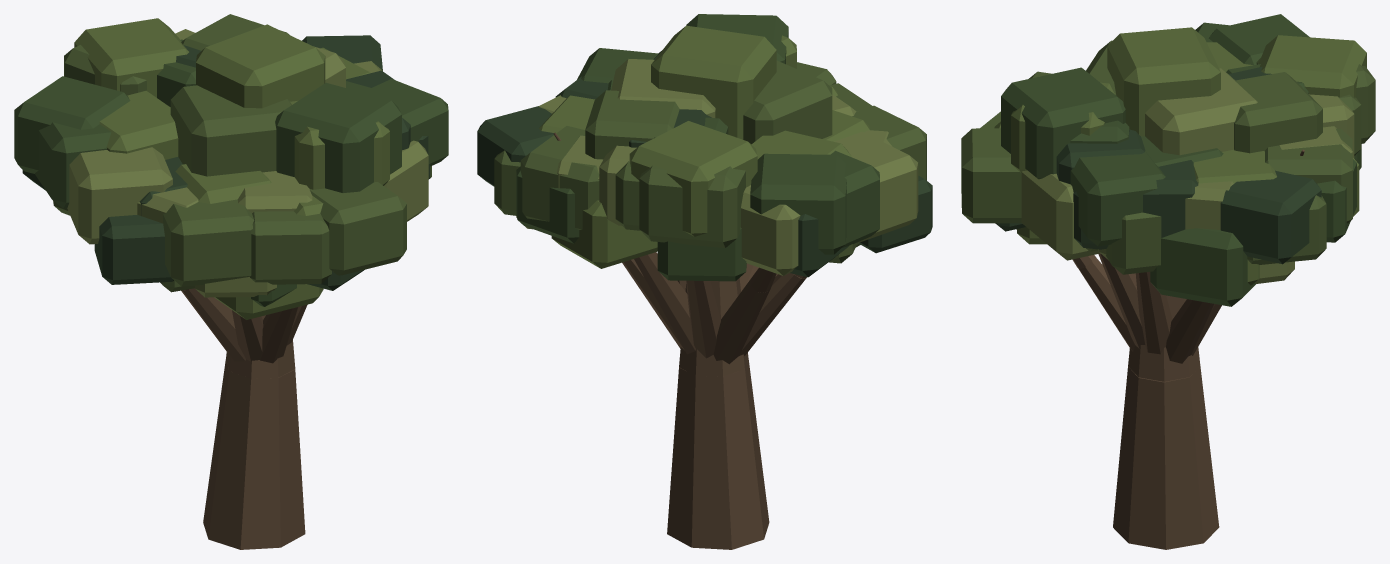
File: oak_ancient.glb
3 views of the same model, side by side, from view 1: azimuth 30°, elevation 25°; view 2: azimuth 150°, elevation 25°; view 3: azimuth 270°, elevation 25° (orthographic).
Visible parts, largest first — view 1: oak_ancient; view 2: oak_ancient; view 3: oak_ancient.
Part boxes in pixels (box(x1,y1,x2,y2)): oak_ancient: box(14, 14, 448, 549); oak_ancient: box(477, 14, 932, 549); oak_ancient: box(961, 14, 1375, 549).
Bounding box in the file's own units: 19.31 × 24 × 18.68.
